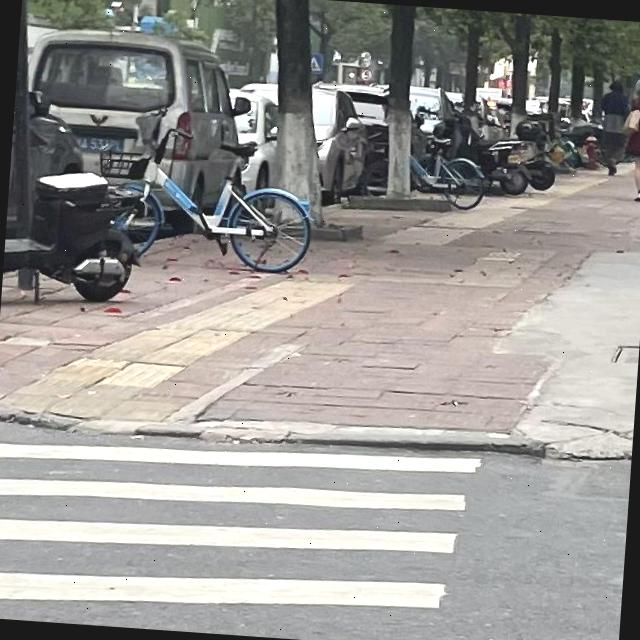curb: (0, 408, 545, 456)
